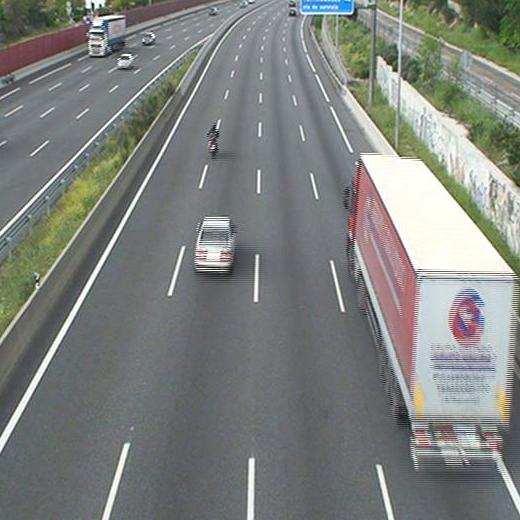car: (195, 216, 234, 271), (287, 7, 295, 16)
motorcycle: (206, 123, 220, 158)
truck: (346, 157, 519, 467)
